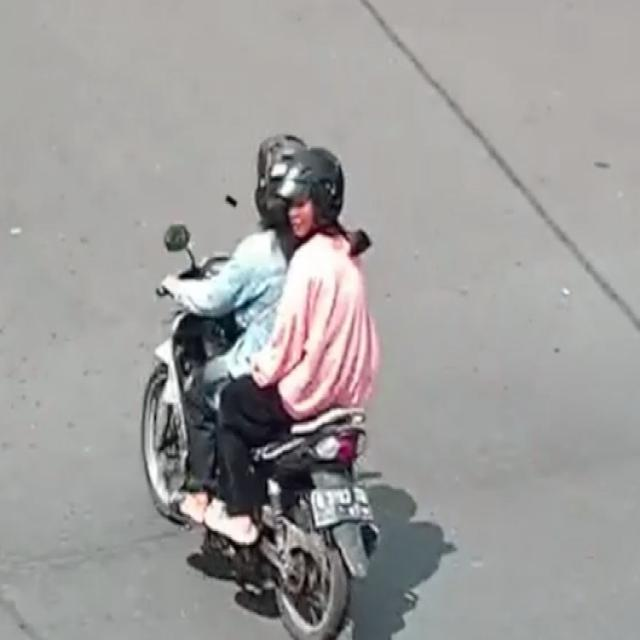helm: (272, 136, 356, 238), (247, 123, 317, 217)
motor: (140, 114, 382, 640)
spion: (156, 213, 203, 277)
